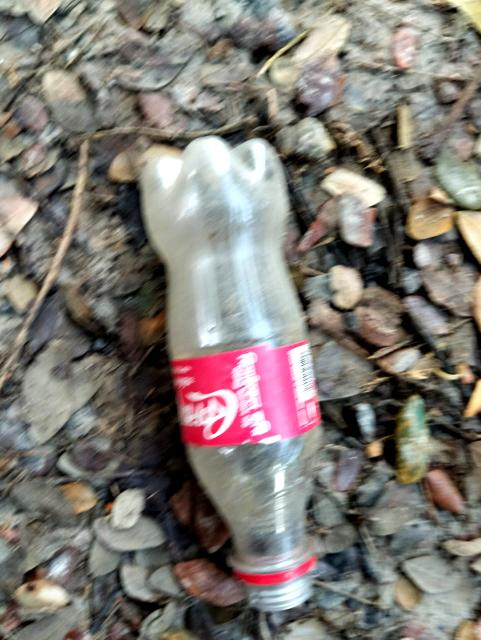bottle: (120, 120, 353, 629)
